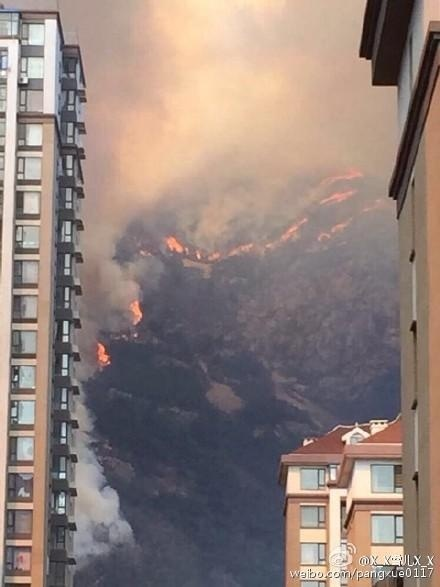fire: (158, 172, 380, 264), (128, 298, 144, 327), (93, 339, 109, 364)
